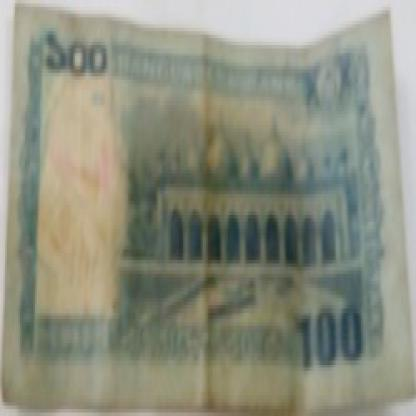one hundred taka: (291, 302, 368, 374), (40, 31, 113, 80)
